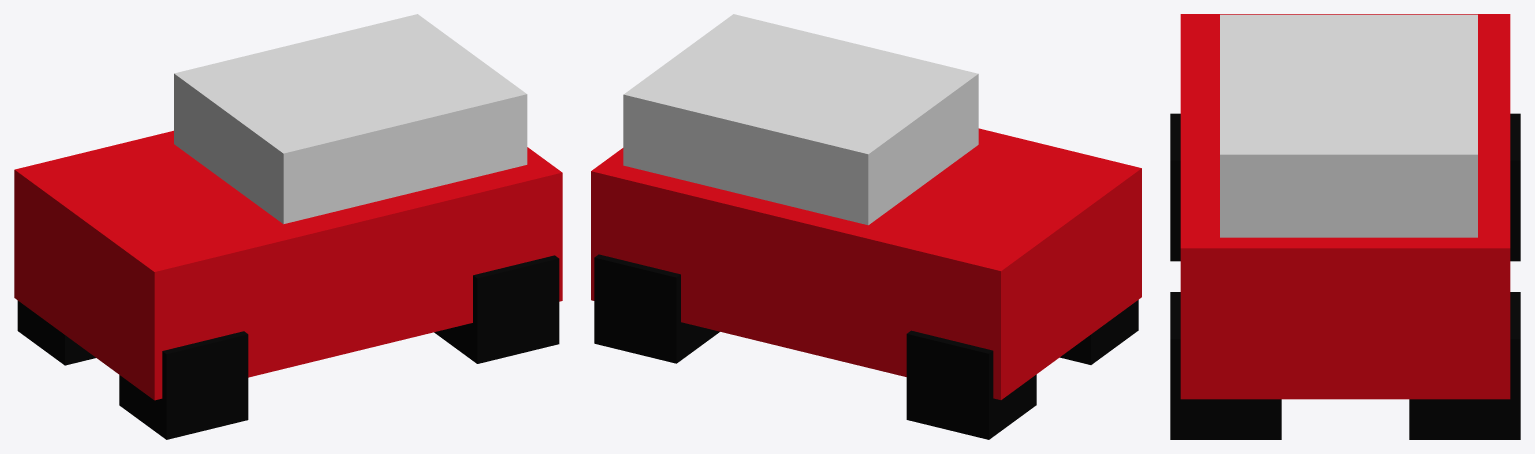
File: player.gltf
3 views of the same model, side by side, from view 1: azimuth 30°, elevation 25°; view 2: azimuth 150°, elevation 25°; view 3: azimuth 270°, elevation 25° (orthographic). The views are drawn at different scales.
Parts seen in each view (by area): view 1: body, glass, tire; view 2: body, glass, tire; view 3: body, glass, tire.
Part boxes in pixels (<box>): body: <box>14,130,562,400</box>; glass: <box>174,14,527,224</box>; tire: <box>17,255,559,439</box>; body: <box>591,128,1141,399</box>; glass: <box>623,14,978,225</box>; tire: <box>594,254,1138,439</box>; body: <box>1180,14,1510,399</box>; glass: <box>1220,14,1477,237</box>; tire: <box>1170,113,1520,439</box>.
Bounding box in the file's own units: 2.2 × 1.22 × 1.39.
